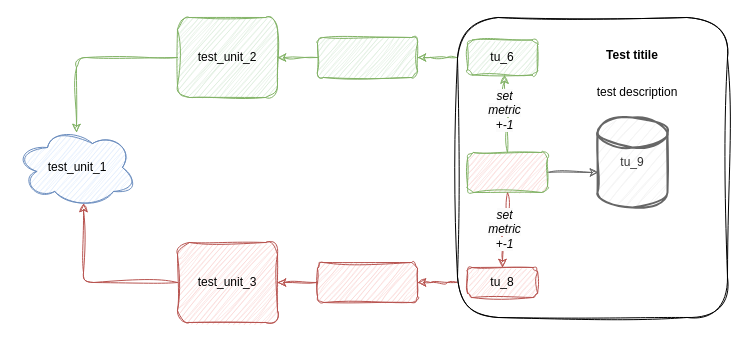
Some shapes in this 745 by 340 pixel diagram are drawn without their labels. Here are the shapes that lost their labels. From the top down, the centre of each, then its label:
At pixel 367 57: "test_unit_4".
At pixel 507 172: "tu_7".
At pixel 367 282: "test_unit_5".
